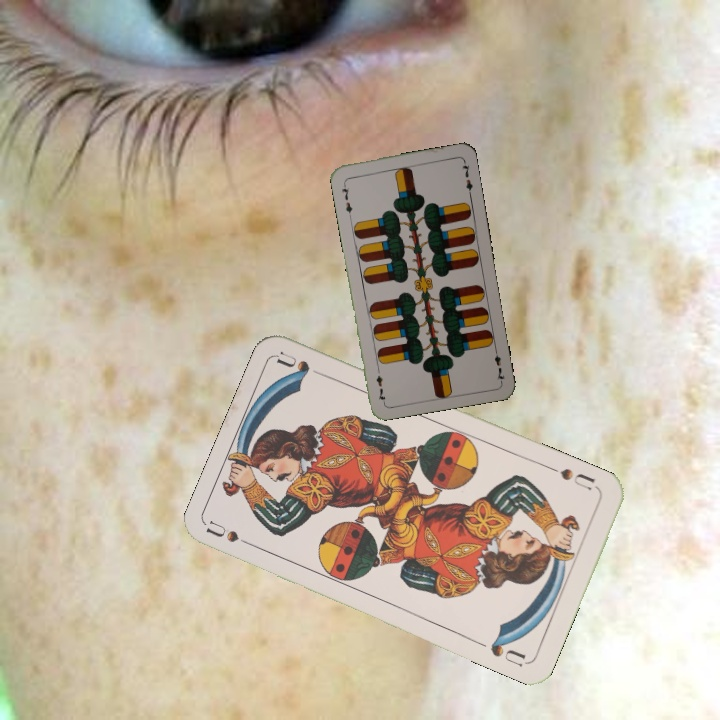E7: (338, 178, 355, 219), (490, 343, 507, 384)
SU: (204, 517, 262, 552), (545, 462, 598, 493)
